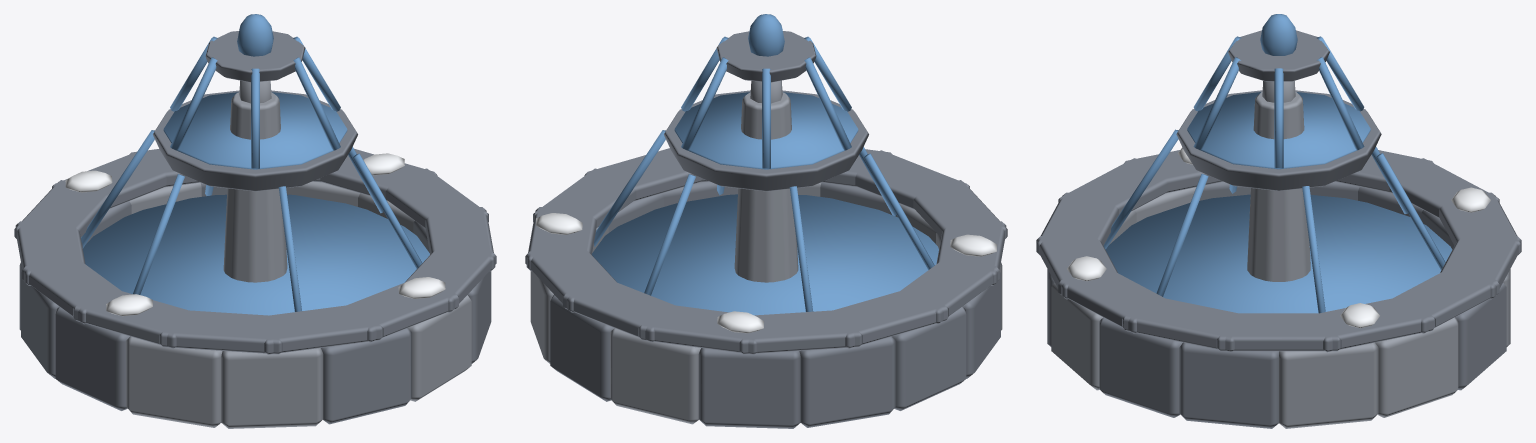
The model's file is deco_fountain.glb.
3 renders of one model, left to right at view 1: azimuth 30°, elevation 25°; view 2: azimuth 150°, elevation 25°; view 3: azimuth 270°, elevation 25°, orthographic.
Parts seen in each view (by area): view 1: deco_fountain; view 2: deco_fountain; view 3: deco_fountain.
Part boxes in pixels (x1,y1,x2,y2): deco_fountain: (14, 14, 496, 428); deco_fountain: (525, 14, 1007, 428); deco_fountain: (1036, 14, 1521, 428).
Bounding box in the file's own units: 2.28 × 1.68 × 2.33.
